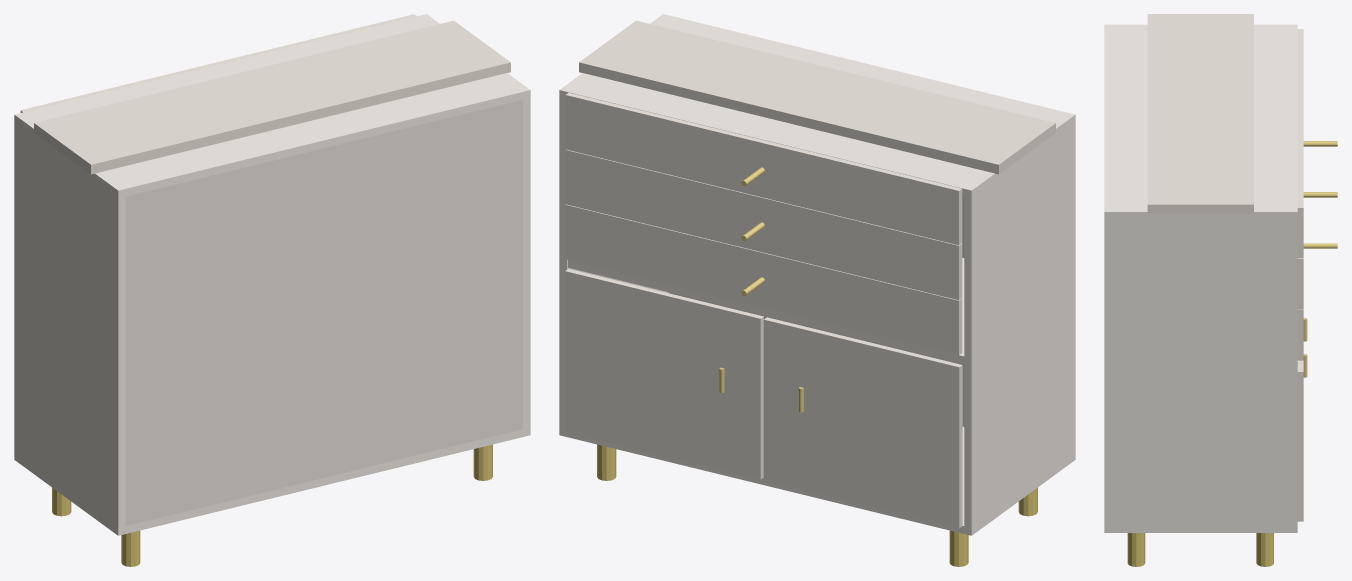
The model's file is cabinet.glb.
3 views of the same model, side by side, from view 1: azimuth 30°, elevation 25°; view 2: azimuth 150°, elevation 25°; view 3: azimuth 270°, elevation 25° (orthographic). The views are drawn at different scales.
Visible parts, largest first — view 1: Cabinet; view 2: Cabinet; view 3: Cabinet.
Part boxes in pixels (x1,y1,x2,y2): Cabinet: [14, 14, 530, 566]; Cabinet: [559, 14, 1075, 566]; Cabinet: [1104, 14, 1337, 566].
Bounding box in the file's own units: 1.12 × 1.02 × 0.58.
